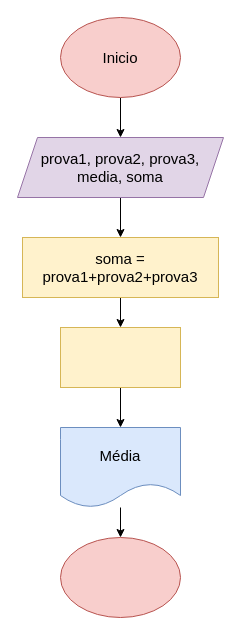
Image size: 241x635. Some labels were removed from this diagram. The box of each missing label's shape, as (x1, y1, x2, y2) in pixels:
Fim: (60, 536, 180, 618)
media = soma/3: (60, 326, 180, 388)
